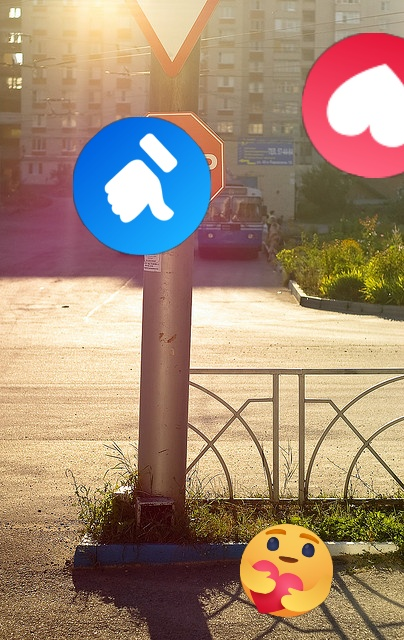care: (240, 524, 333, 617)
like: (73, 117, 211, 255)
love: (302, 33, 404, 178)
